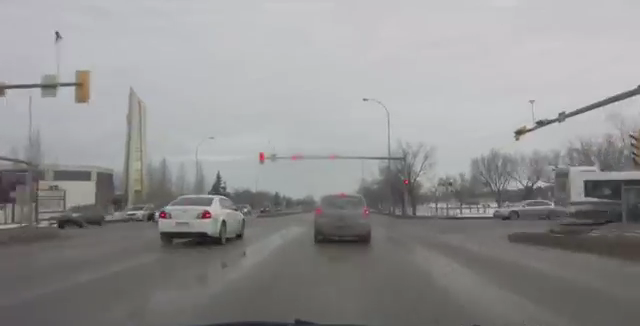car: (159, 195, 245, 244), (312, 193, 373, 242), (492, 198, 566, 221), (57, 204, 103, 230), (124, 204, 154, 221), (237, 203, 252, 216), (259, 204, 270, 213)
